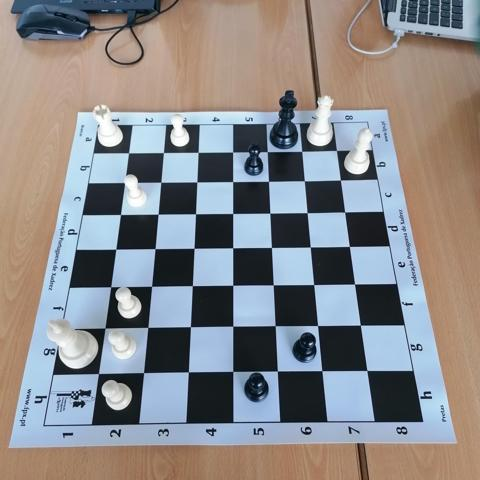xcorner: (294, 143, 310, 159), (259, 143, 275, 159), (189, 144, 205, 160), (333, 172, 349, 188), (224, 173, 240, 189), (188, 174, 204, 190), (152, 174, 168, 190), (262, 205, 278, 221), (149, 206, 165, 222), (342, 239, 358, 255), (224, 240, 240, 256), (146, 241, 162, 257), (224, 278, 240, 294), (183, 278, 199, 294), (353, 318, 369, 334), (267, 319, 283, 335), (224, 319, 240, 335), (139, 320, 155, 336), (96, 320, 112, 336), (269, 364, 285, 380), (329, 143, 345, 158), (224, 144, 240, 159), (155, 144, 170, 160), (120, 145, 135, 161), (297, 173, 313, 188), (261, 173, 276, 189), (338, 204, 353, 220), (300, 205, 316, 220), (224, 206, 240, 221), (187, 206, 202, 222), (111, 207, 127, 222), (303, 240, 319, 255), (264, 240, 279, 256), (185, 241, 201, 256), (107, 241, 122, 257), (348, 277, 363, 293), (307, 277, 322, 293), (265, 278, 281, 293), (143, 279, 158, 295), (102, 279, 117, 295), (310, 319, 326, 334), (360, 363, 375, 379), (314, 364, 330, 379), (225, 364, 240, 380), (180, 365, 195, 381), (135, 365, 150, 381), (90, 366, 106, 381), (116, 175, 131, 190), (182, 320, 197, 335)
